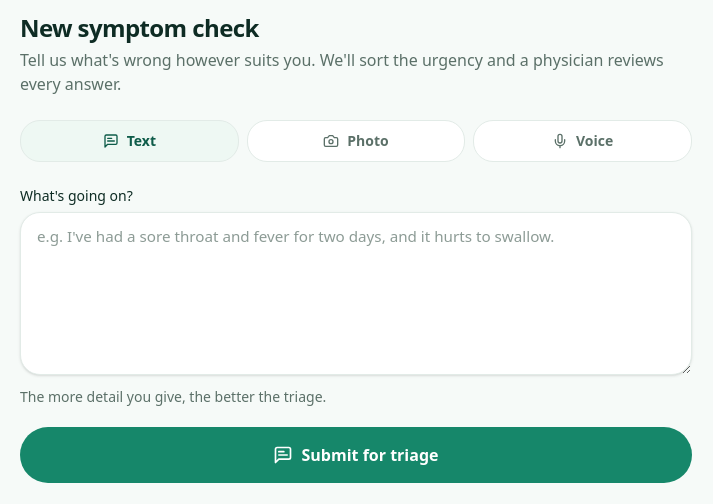
NewSymptomCheck › blocks submission when the description is too short
Type "sore" into the text box labelled "What's going on?" at [356, 293], box [20,212,692,375]
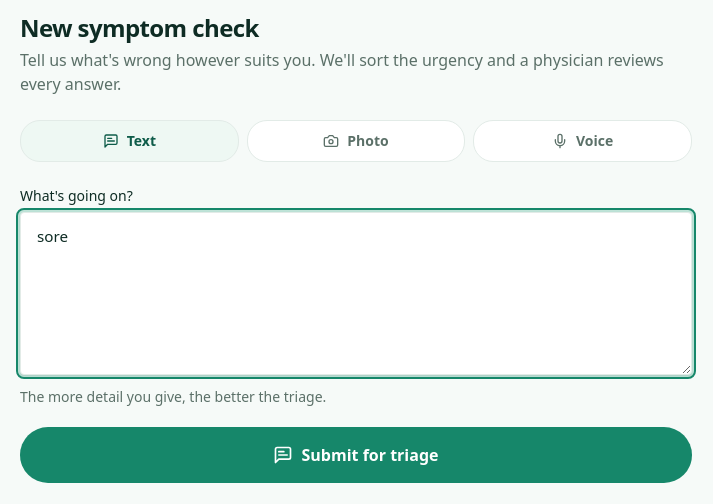
Click the button "Submit for triage" at [356, 455], box [20,427,692,483]
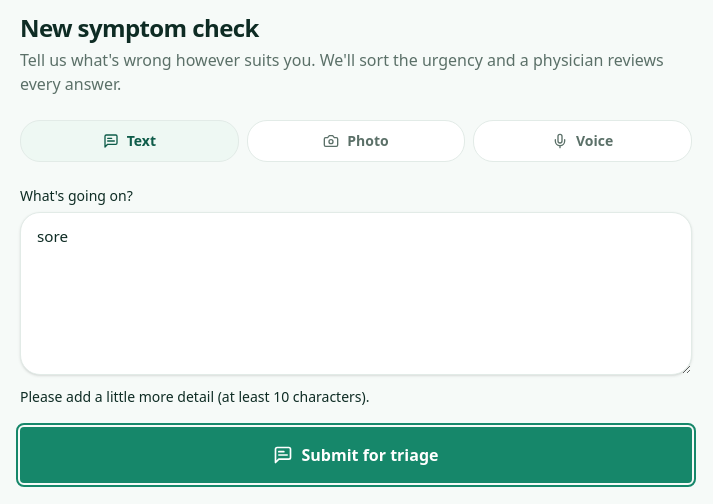
Result: the text "Please add a little more detail (at least 10 characters)." is shown at [20,387,370,406]
